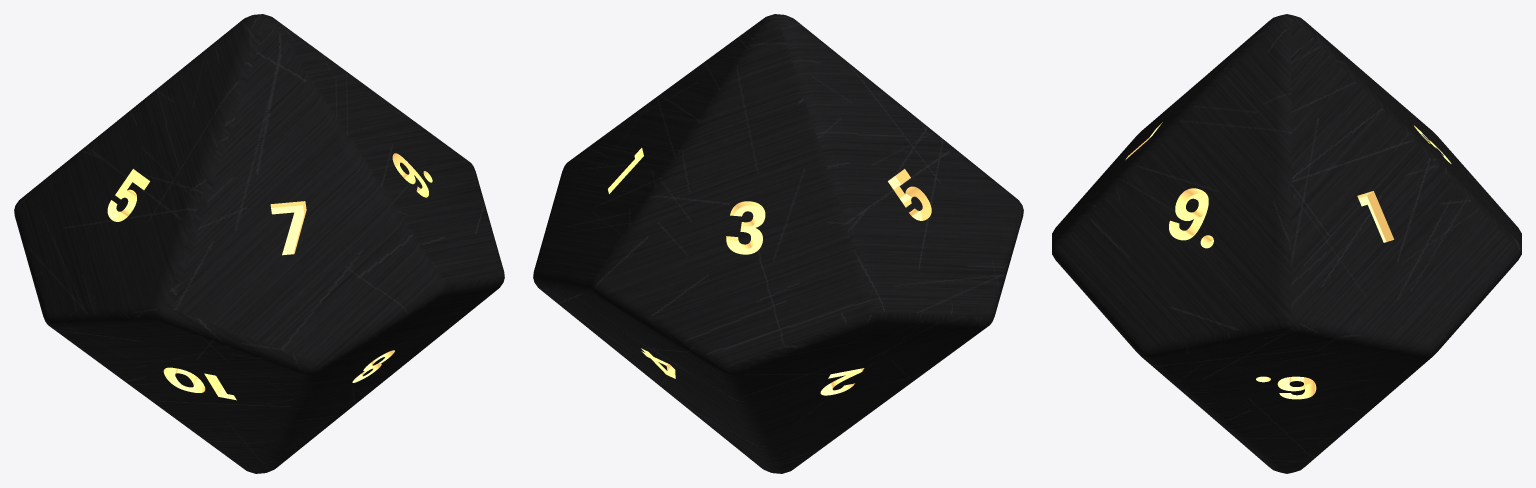
The model's file is MP_D10_BlackGold.glb.
The picture shows the model from 3 angles, left to right: view 1: azimuth 30°, elevation 25°; view 2: azimuth 150°, elevation 25°; view 3: azimuth 270°, elevation 25°; orthographic projection.
Visible parts, largest first — view 1: D10_BlackGold; view 2: D10_BlackGold; view 3: D10_BlackGold.
Part boxes in pixels (x1=…): D10_BlackGold: x1=14, y1=14, x2=504, y2=473; D10_BlackGold: x1=533, y1=14, x2=1023, y2=473; D10_BlackGold: x1=1052, y1=14, x2=1521, y2=473.
Bounding box in the file's own units: 0.9872 × 1 × 0.9408.
Materials: 2 (1 with a texture image).
